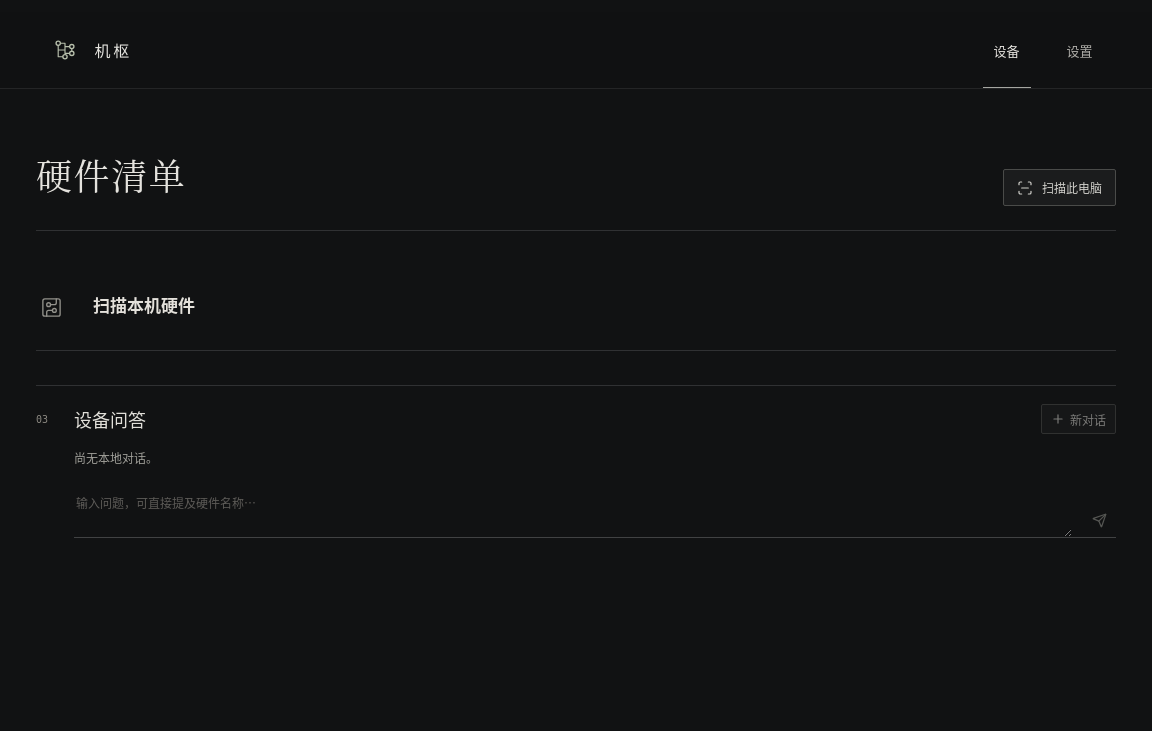
Test case: CoreScope application shell › uses a compact top switch for devices and settings instead of a sidebar
Click the tab "设置".
click(1080, 50)  # box [1056,12,1104,88]
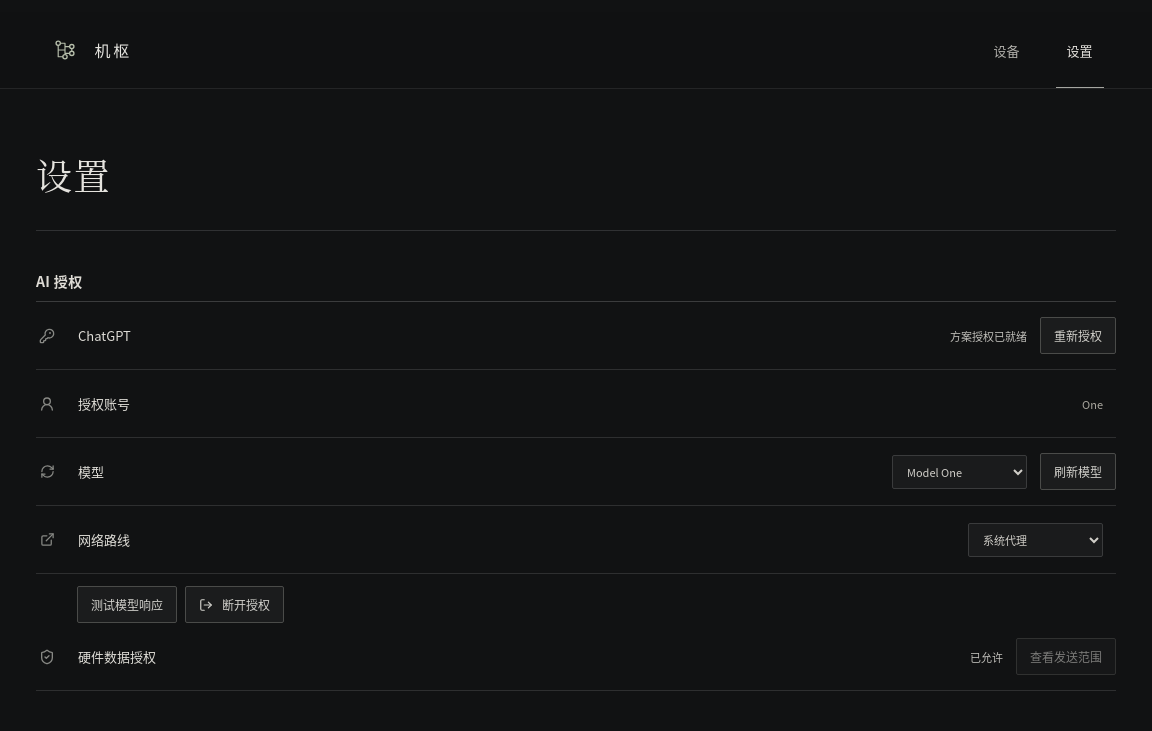
Check: the heading "设置" is shown, box [36,149,111,200]
Check: the text "ChatGPT" is shown, box [78,326,131,345]
Check: the text "One" is shown, box [1082,396,1103,412]
